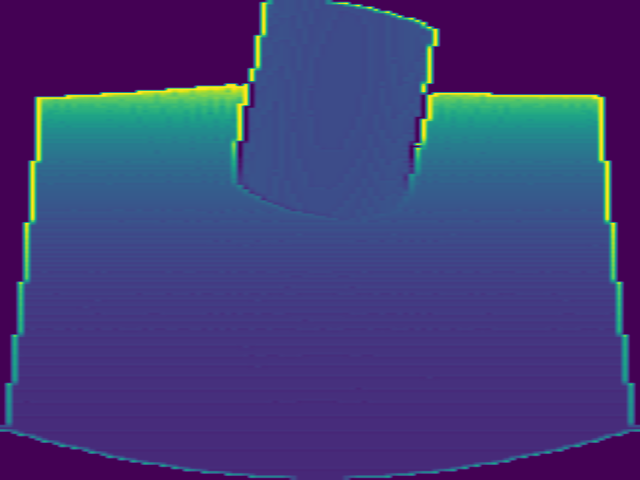cylinder: (230, 1, 439, 217)
